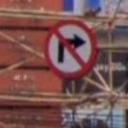NoVirarDireita: (43, 18, 99, 82)
